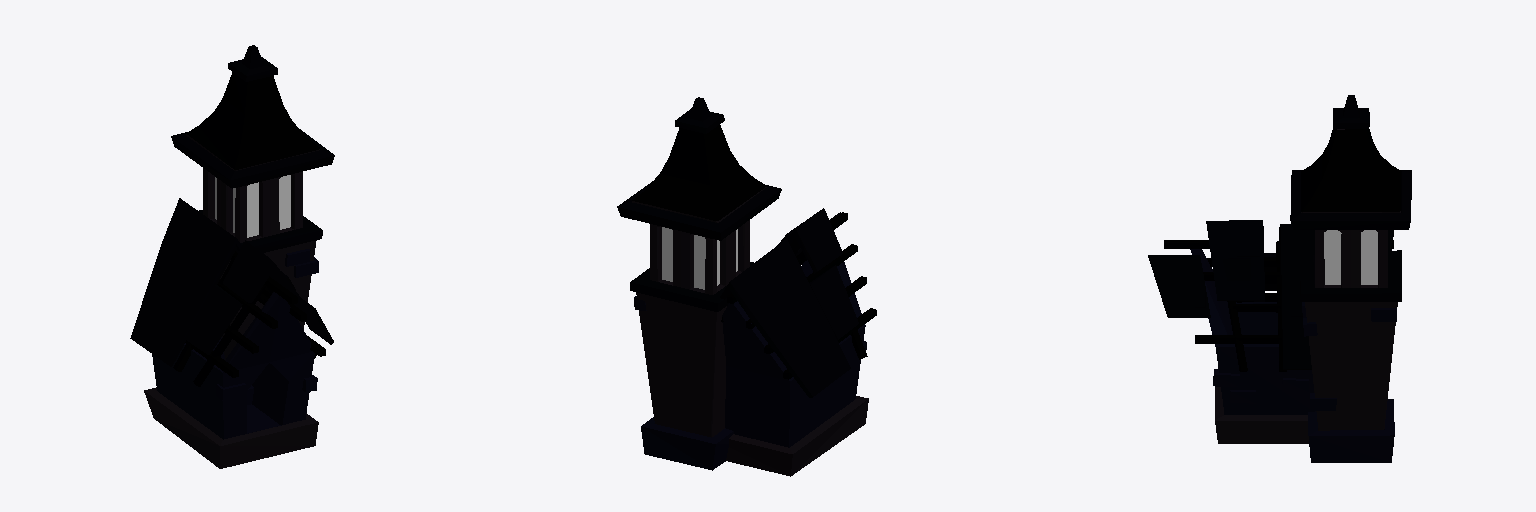
The model's file is SpookyHouseLow.obj.
3 renders of one model, left to right at view 1: azimuth 30°, elevation 25°; view 2: azimuth 150°, elevation 25°; view 3: azimuth 270°, elevation 25°, orthographic.
Visible parts, largest first — view 1: Plane.054, Plane.060, Plane.061, Plane.046, Plane.052, Plane.042, Plane.048, Plane.047, Plane.059; view 2: Plane.060, Plane.054, Plane.061, Plane.046, Plane.042, Plane.045, Plane.052, Plane.047, Plane.048, Plane.059; view 3: Plane.060, Plane.054, Plane.061, Plane.045, Plane.052, Plane.042, Plane.046, Plane.047, Plane.048, Plane.059, Plane.036, Plane.037 (+1 smaller).
Part boxes in pixels (x1,y1,x2,y2): Plane.054: (130, 198, 333, 366); Plane.060: (186, 72, 319, 359); Plane.061: (152, 292, 314, 439); Plane.046: (144, 387, 318, 468); Plane.052: (173, 251, 325, 386); Plane.042: (171, 129, 334, 188); Plane.048: (215, 175, 290, 237); Plane.047: (199, 210, 322, 252); Plane.059: (228, 45, 277, 81); Plane.060: (632, 125, 766, 437); Plane.054: (720, 208, 858, 397); Plane.061: (722, 232, 865, 447); Plane.046: (726, 396, 868, 476); Plane.042: (617, 181, 781, 240); Plane.045: (641, 417, 733, 470); Plane.052: (721, 212, 876, 379); Plane.047: (630, 262, 753, 311); Plane.048: (662, 227, 737, 289); Plane.059: (675, 97, 724, 133); Plane.060: (1301, 129, 1400, 430); Plane.054: (1148, 220, 1393, 369); Plane.061: (1190, 249, 1391, 414); Plane.045: (1308, 399, 1394, 462); Plane.052: (1164, 240, 1393, 371); Plane.042: (1290, 170, 1411, 229); Plane.046: (1215, 387, 1308, 443); Plane.047: (1300, 250, 1401, 301); Plane.048: (1324, 230, 1377, 284); Plane.059: (1333, 95, 1369, 128); Plane.036: (1177, 285, 1205, 307); Plane.037: (1223, 258, 1250, 280).
Size of the model in its own units: 4.3 by 8.48 by 5.76.